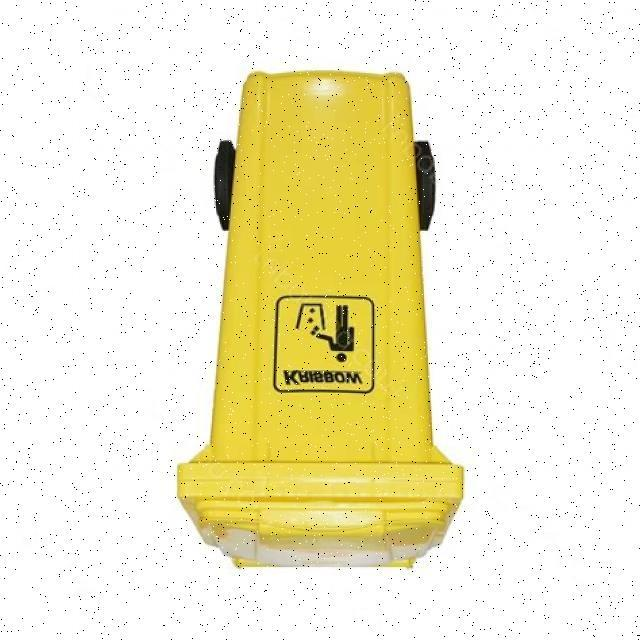garbage container: (155, 53, 489, 580)
